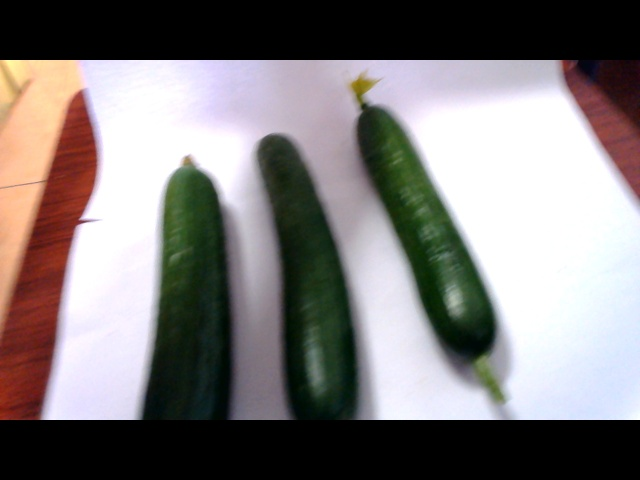cucumber: (359, 104, 503, 386), (244, 131, 359, 414), (132, 146, 233, 426)
